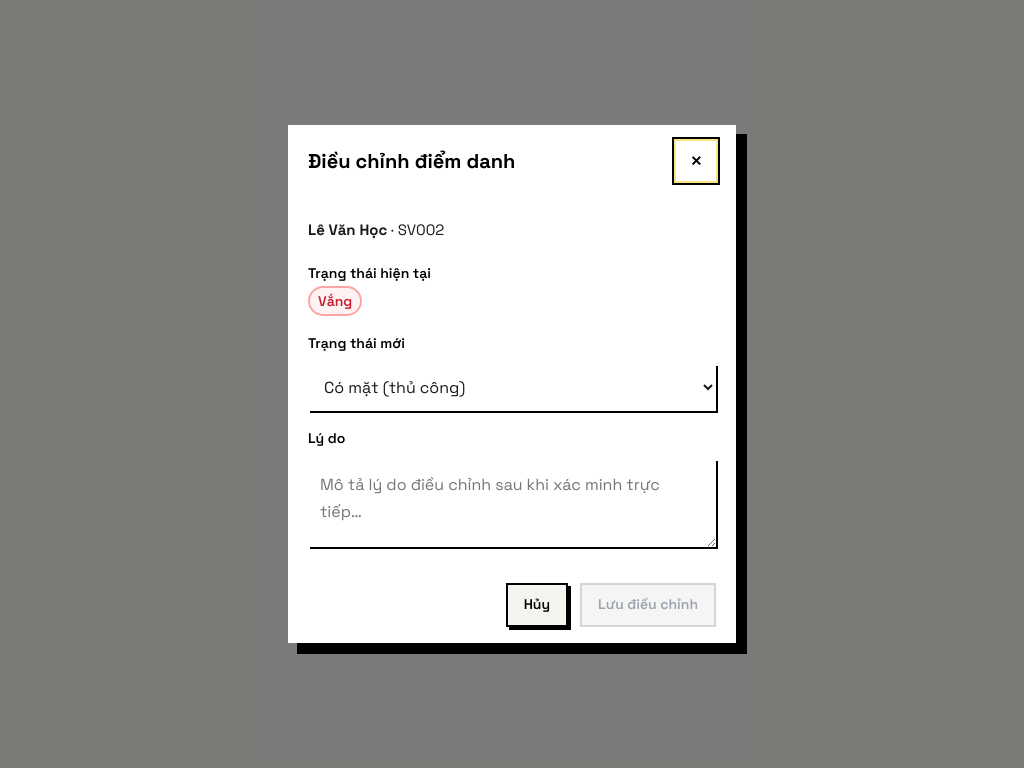
Test: ManualCorrectionDialog — FR-20 AC-13 AC-14 AC-25 NFR-17 › TC-AC-14-010: surfaces escalation guidance on EditWindowExpired
Step 1. Type "Xác minh trực tiếp sau khi hết cửa sổ." into the text box labelled "Lý do" → (512, 503), box x1=308 y1=459 x2=716 y2=547
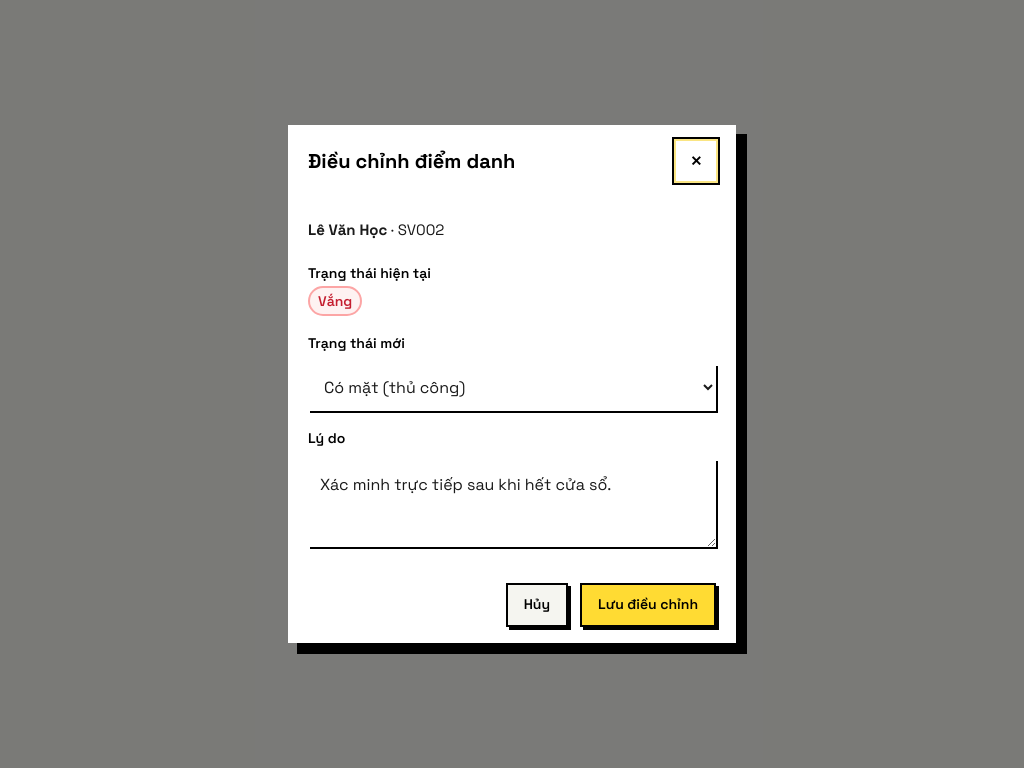
Step 2. Click the button "Lưu điều chỉnh" → (648, 605), box x1=580 y1=583 x2=716 y2=627
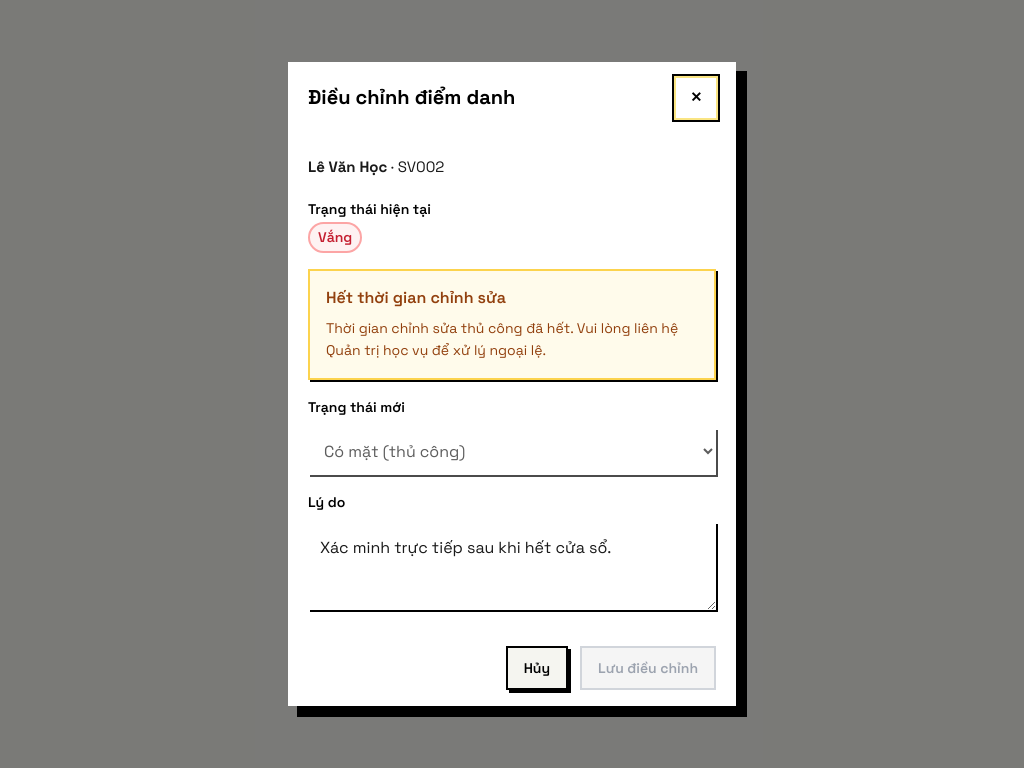
expect the text "Quản trị học vụ" is shown: met, box x1=326 y1=319 x2=678 y2=359
expect the button "Lưu điều chỉnh" is disabled: met, box x1=580 y1=646 x2=716 y2=690
